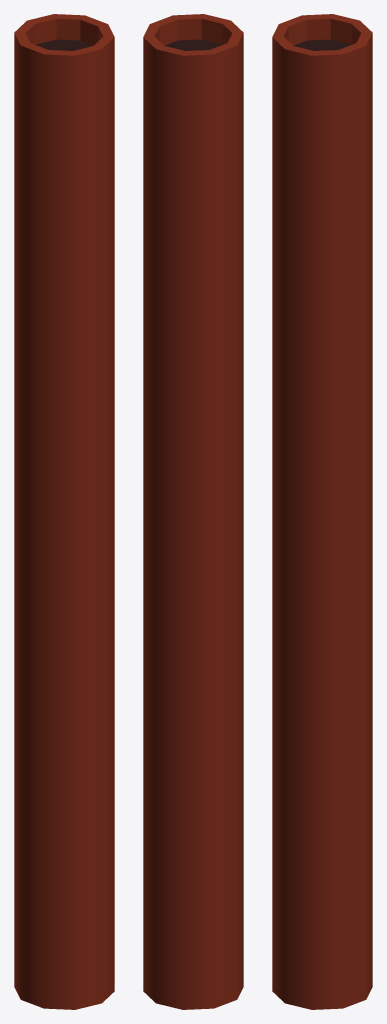
Rendered from flare solo.fbx.
3 views of the same model, side by side, from view 1: azimuth 30°, elevation 25°; view 2: azimuth 150°, elevation 25°; view 3: azimuth 330°, elevation 25° (orthographic).
Parts seen in each view (by area): view 1: polySurface1; view 2: polySurface1; view 3: polySurface1.
Boxes of the visible parts, x1,y1,x2,y2 form: polySurface1: [14, 14, 114, 1009]; polySurface1: [143, 14, 243, 1009]; polySurface1: [272, 14, 372, 1009].
Size of the model in its own units: 2 by 20.85 by 1.9.
